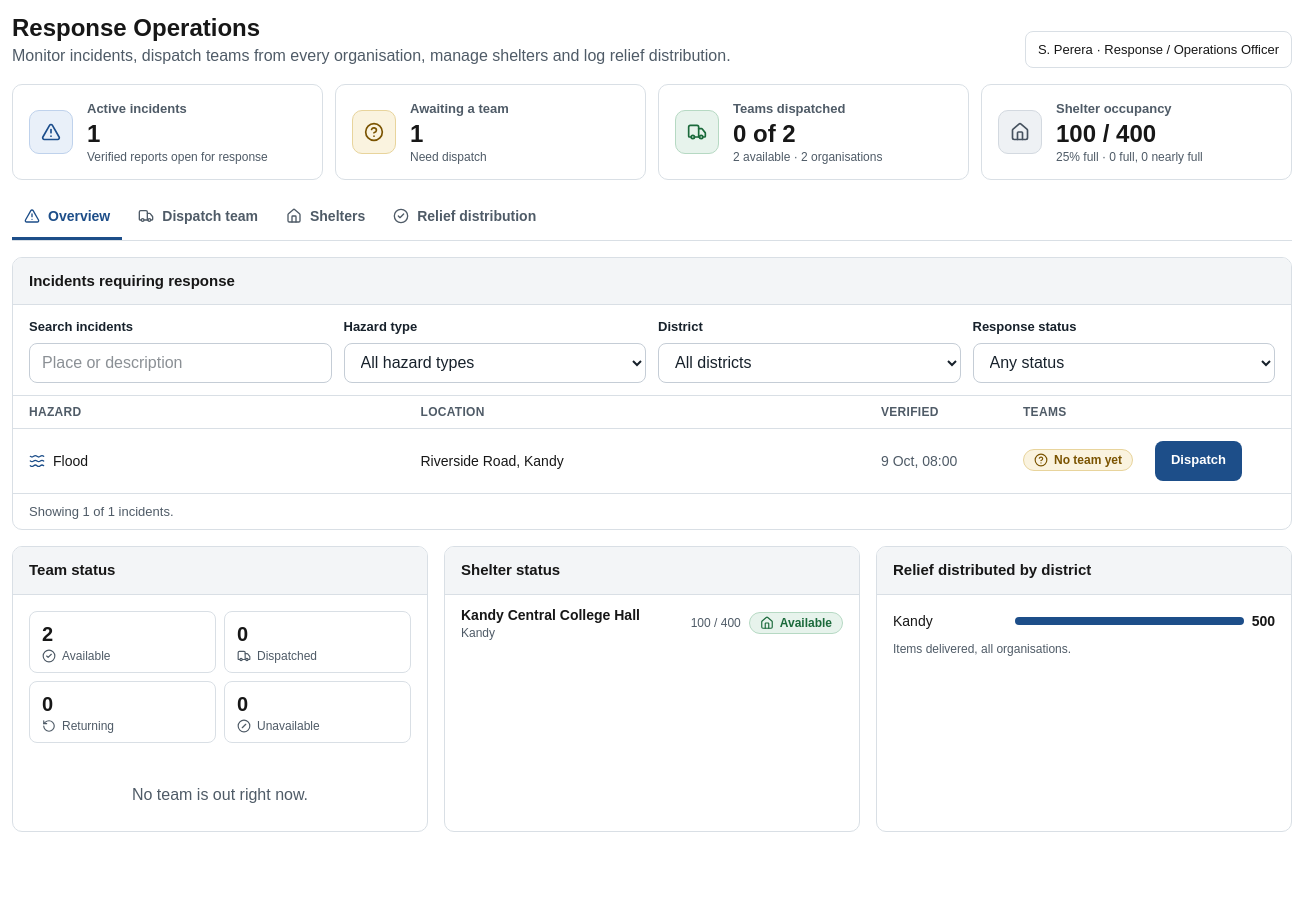
Test case: Dispatch Rescue Team › hides teams from other districts until the officer widens the search
expect the text "Active incidents" is shown: met, box [87,101,187,116]
Click the tab "Dispatch team": (198, 218) [126,196,270,240]
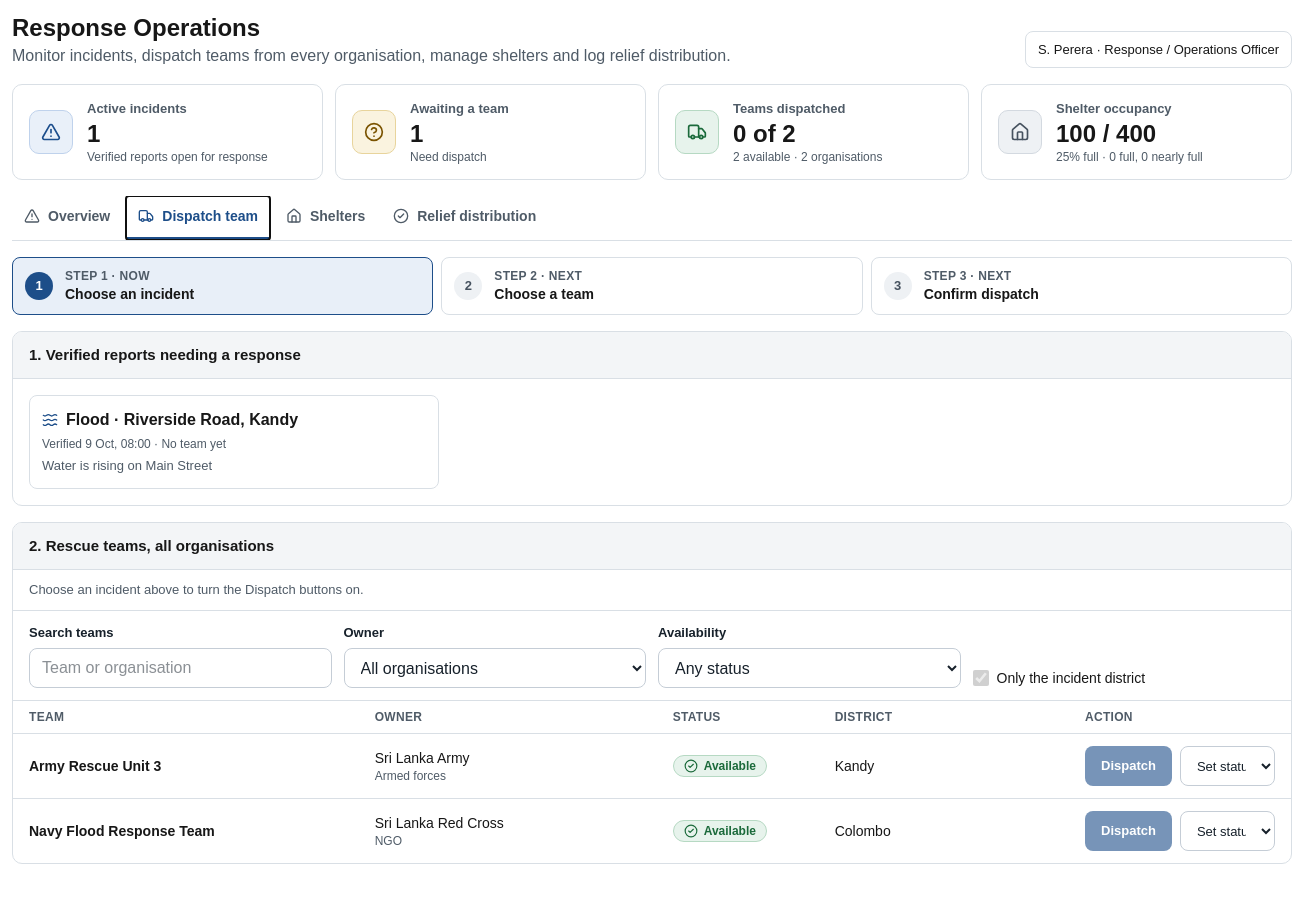
Click the radio button labelled "Flood": (88, 420) [29,395,439,488]
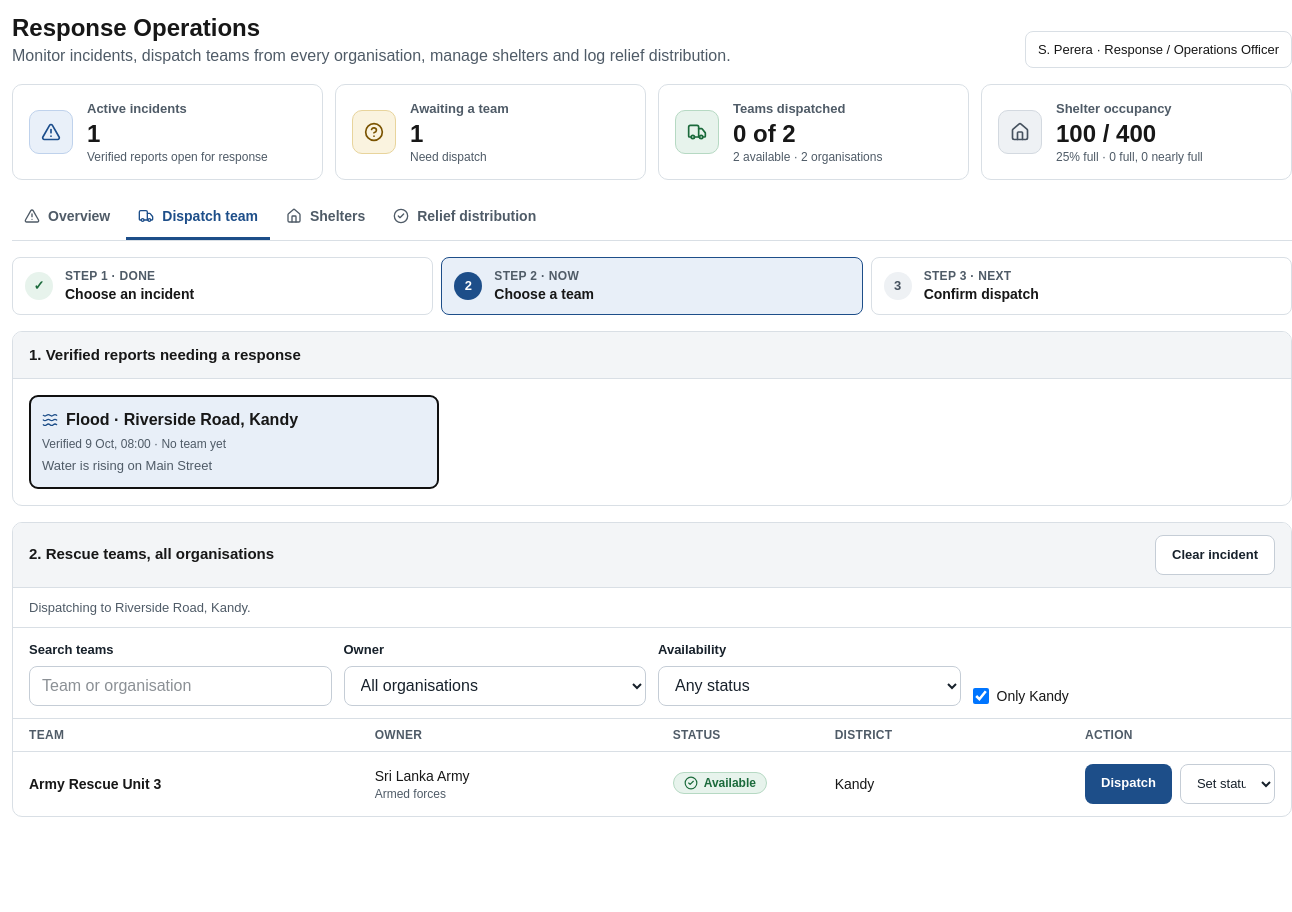
expect the text "Navy Flood Response Team" is gone: met
Click the checkbox labelled "Only Kandy": (980, 696) [972,688,988,704]
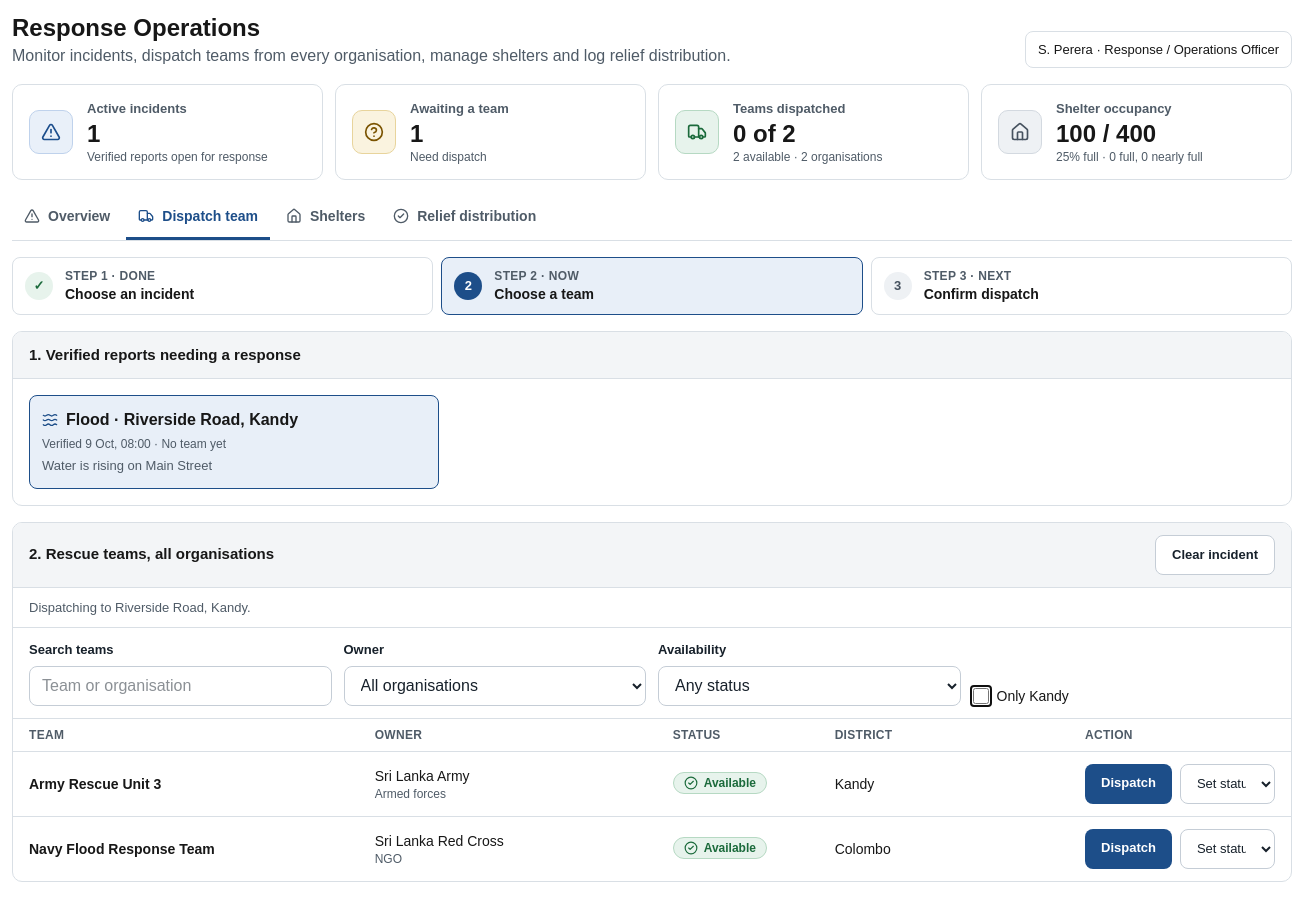
expect the text "Navy Flood Response Team" is shown: met, box [29,840,215,856]
